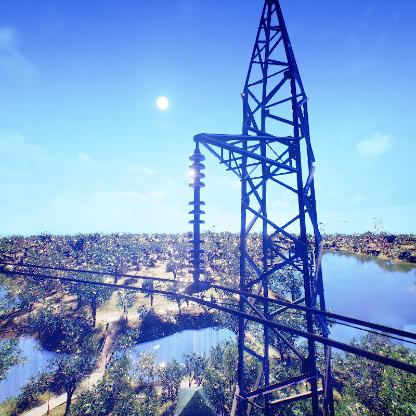insulator: (185, 153, 207, 279)
